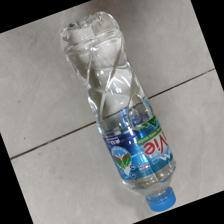Lavie: (60, 12, 177, 214)
